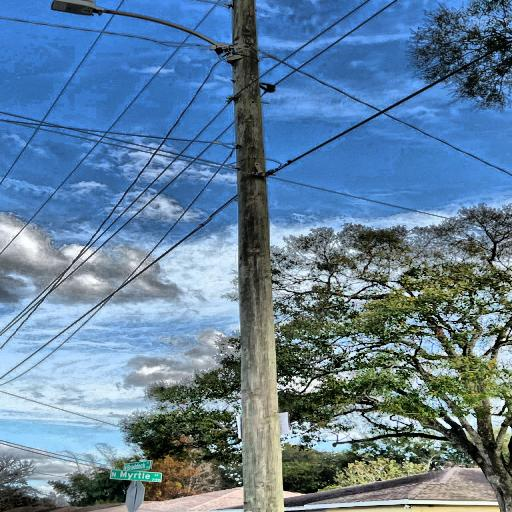pole: (221, 0, 303, 512)
street light: (39, 0, 242, 62)
